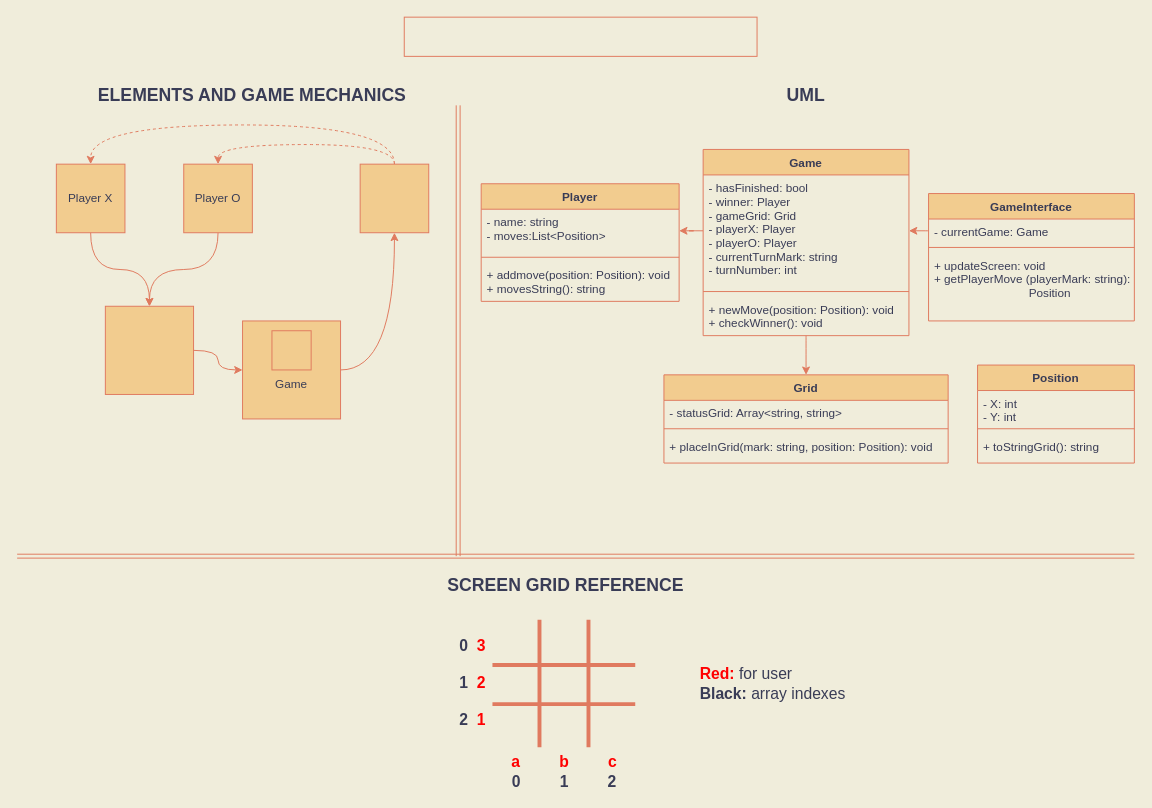
The diagram is 1152 pixels wide and 808 high, and some of its shapes have lost their labels. The centre of each missing label's shape, as x and y in pixels:
Grid (Output): (394,198)
Input: (149,349)
Rules: (291,350)
TIC-TAC-TOE PROJECT IN C#: (580,36)
